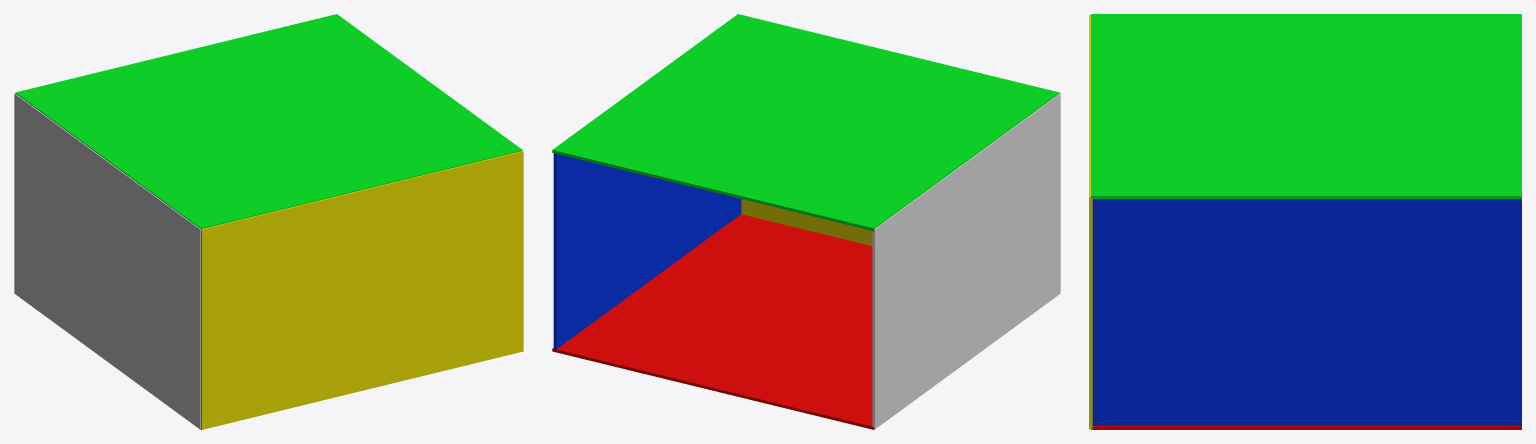
Rendered from MyRoom.fbx.
The picture shows the model from 3 angles, left to right: view 1: azimuth 30°, elevation 25°; view 2: azimuth 150°, elevation 25°; view 3: azimuth 270°, elevation 25°; orthographic projection. The views are drawn at different scales.
Visible parts, largest first — view 1: WallB; view 2: WallB; view 3: WallB.
Boxes of the visible parts, x1,y1,x2,y2 form: WallB: [14, 14, 523, 429]; WallB: [552, 14, 1060, 429]; WallB: [1089, 14, 1521, 429].
Bounding box in the file's own units: 744 × 444 × 745.
